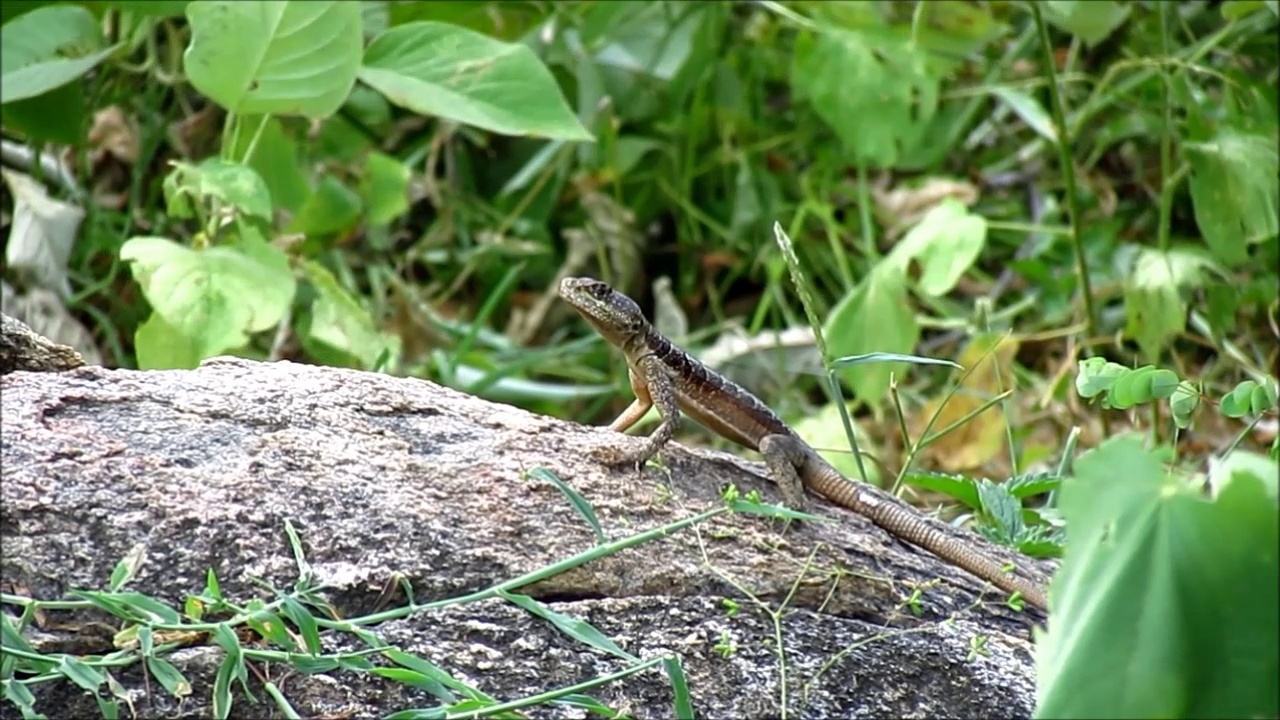body: (588, 312, 1049, 608)
head: (557, 276, 640, 341)
